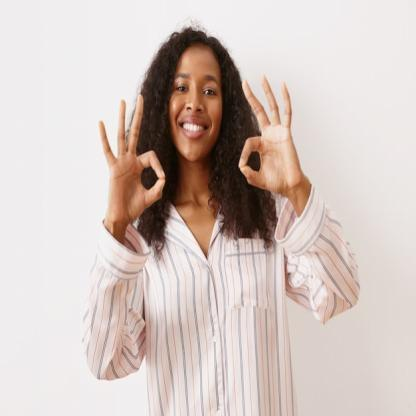ok: (96, 92, 168, 227)
